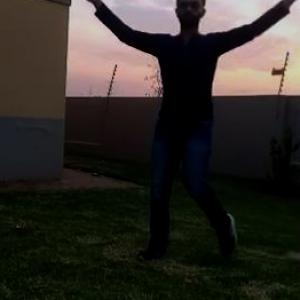takeoff: (89, 0, 299, 272)
